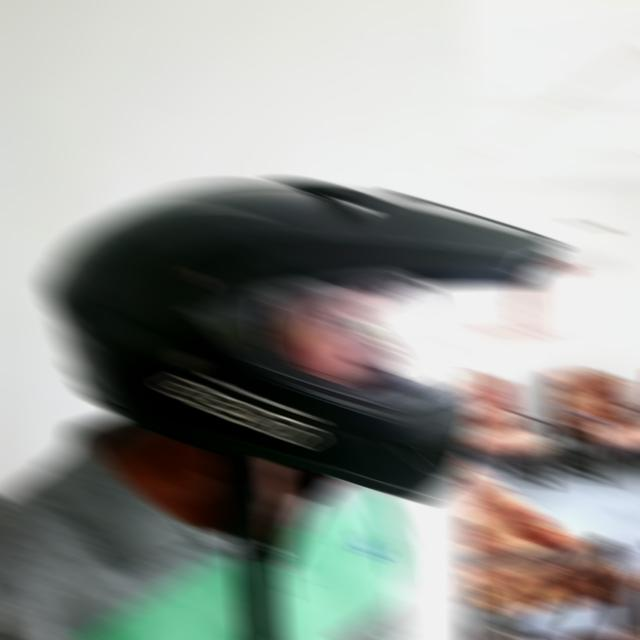With Helmet: (39, 178, 568, 506)
